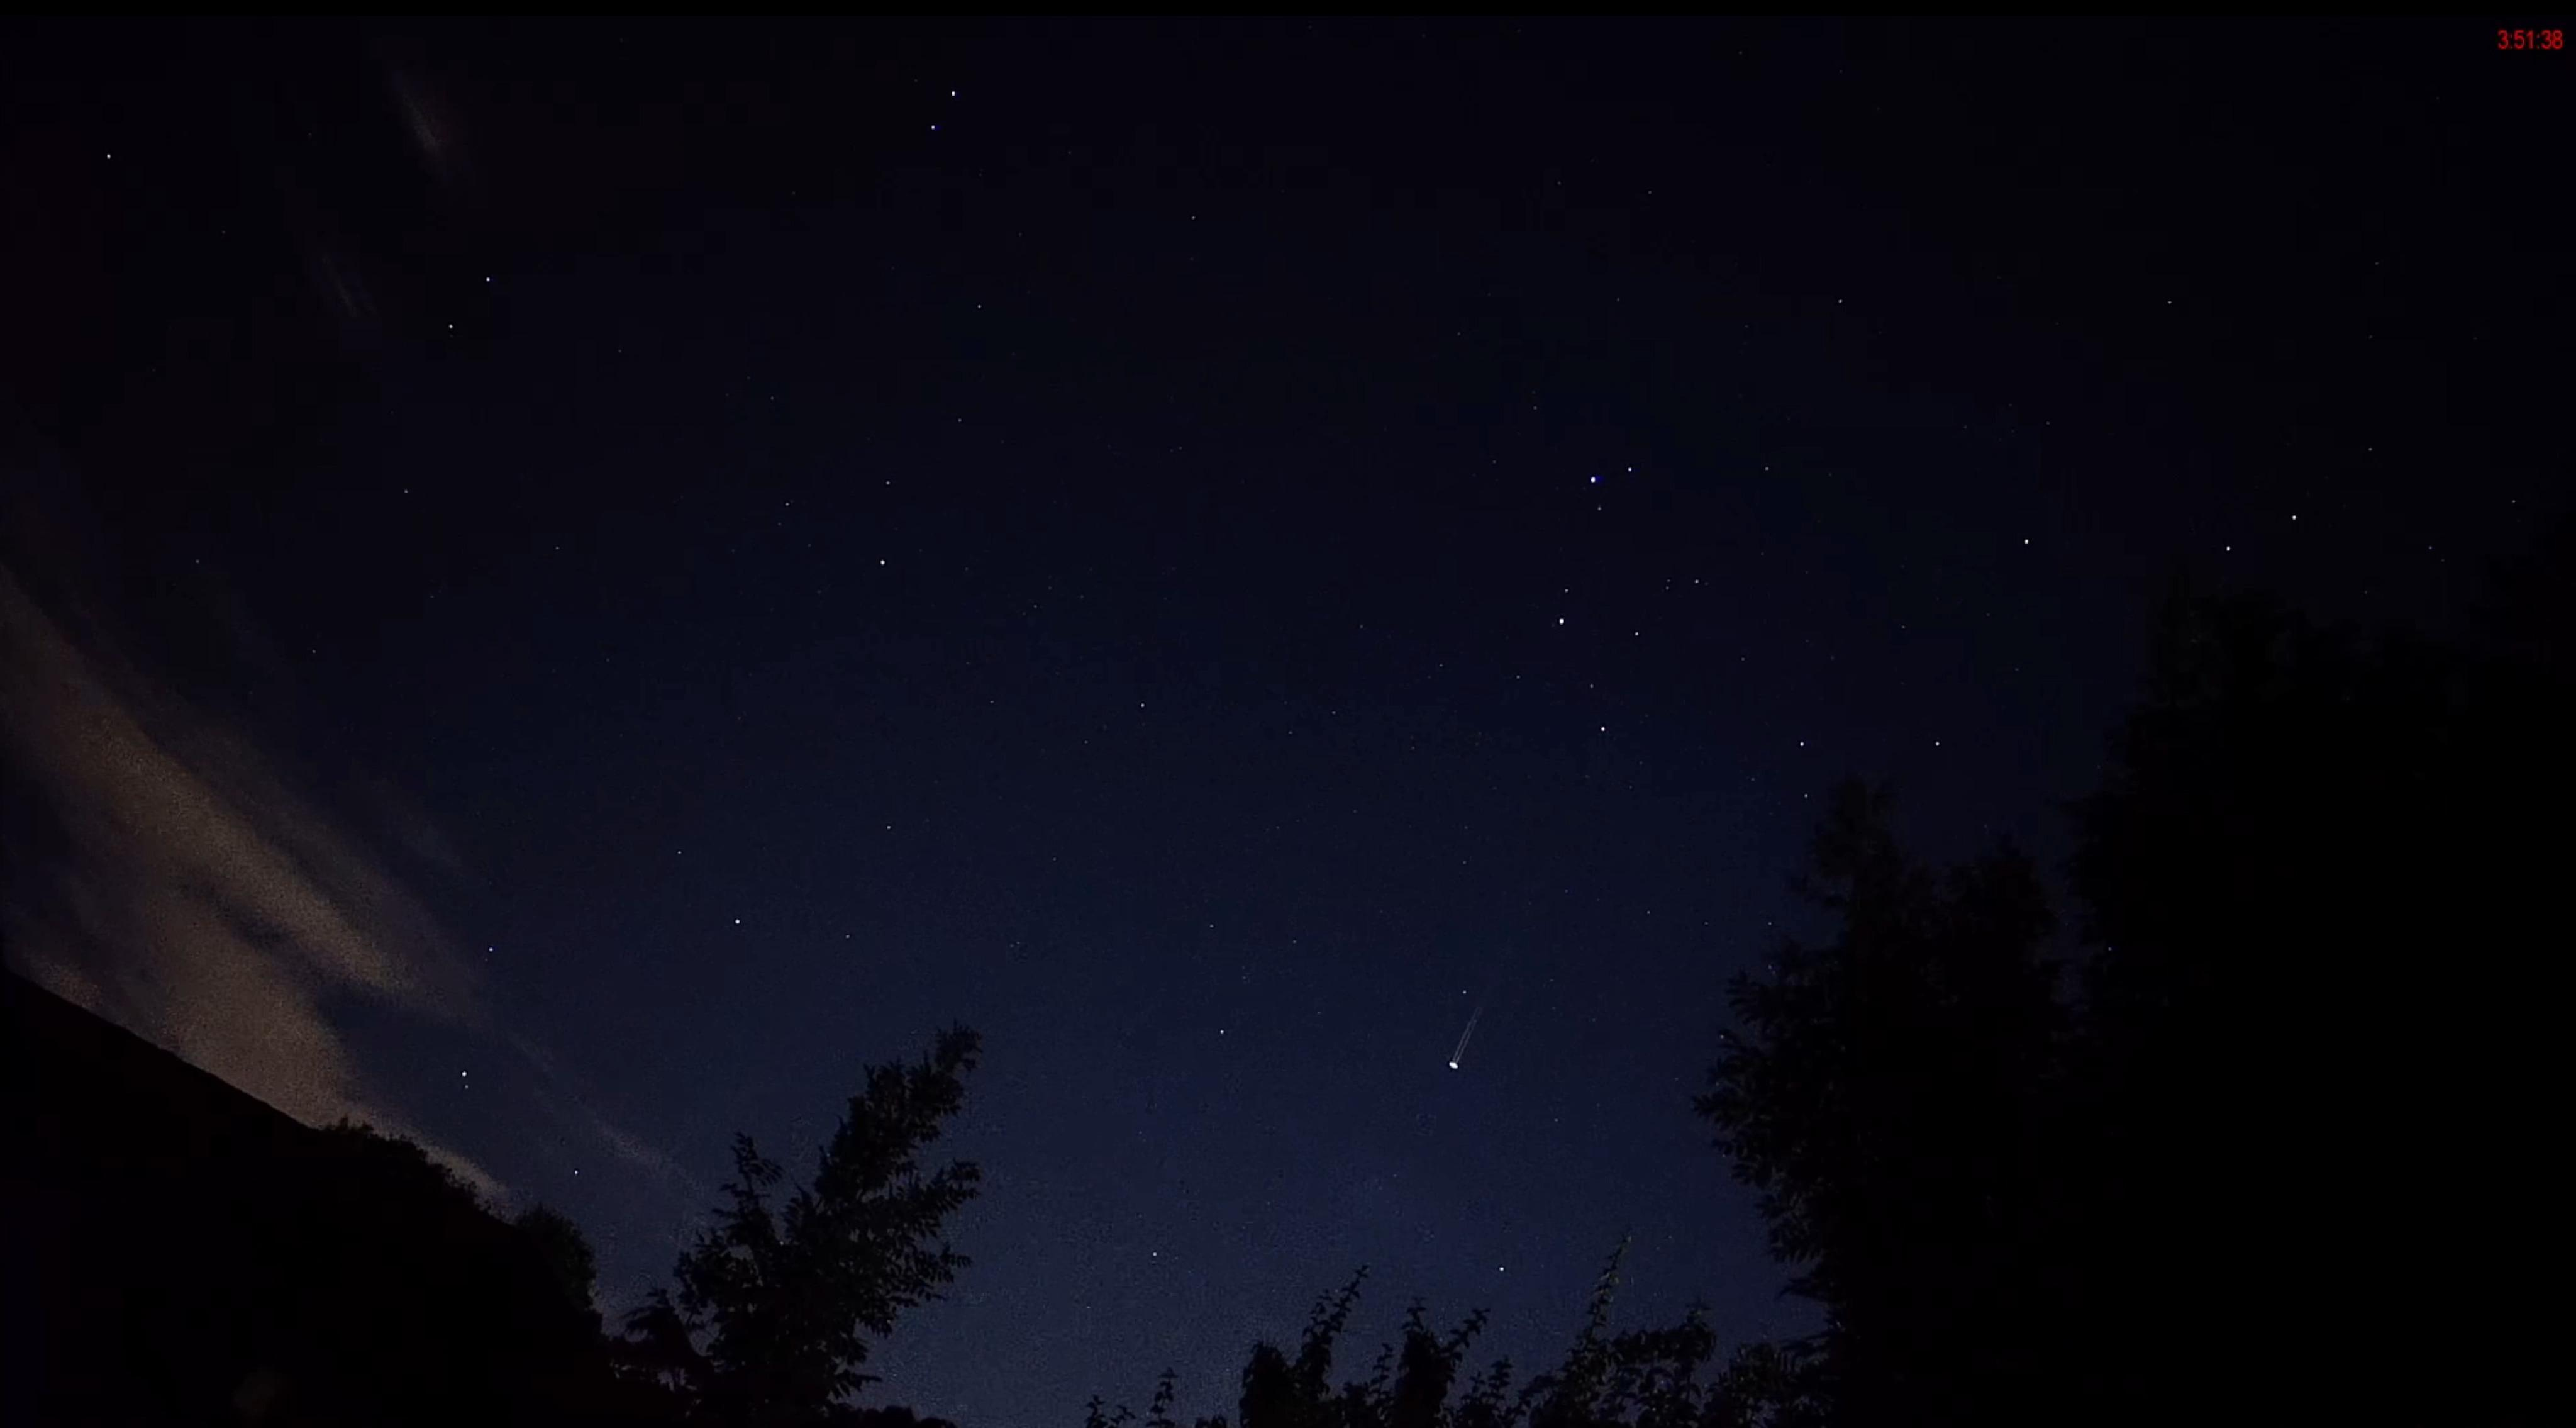Plane: (1434, 1011, 1506, 1080)
